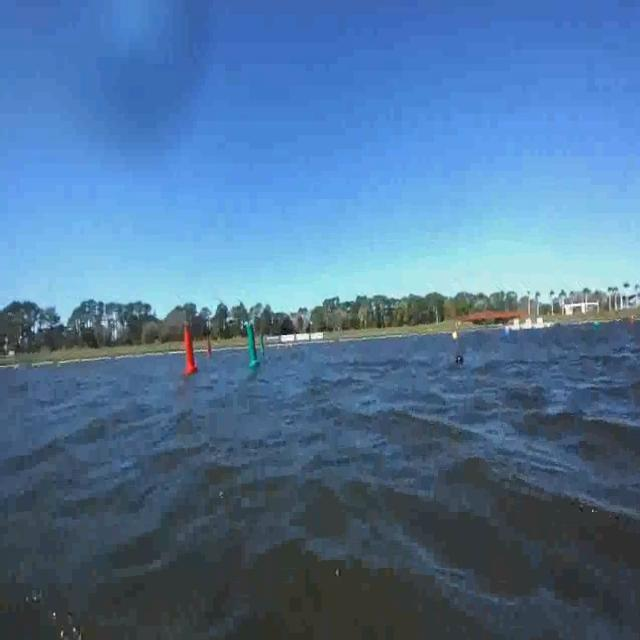blue-buoy: (454, 354, 464, 365)
green-buoy: (594, 320, 600, 329)
green-column-buoy: (244, 324, 259, 370), (261, 335, 267, 353)
red-column-buoy: (181, 328, 197, 375), (206, 340, 214, 358)
yellow-buoy: (452, 331, 459, 344)
